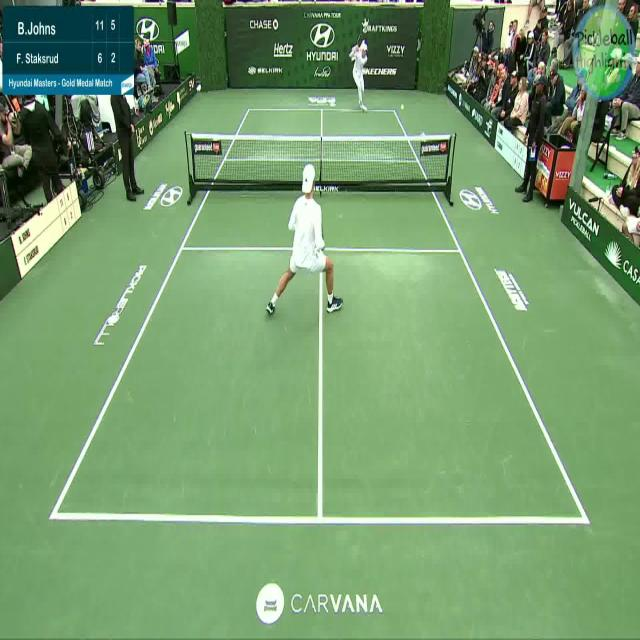ball: (396, 98, 408, 116)
